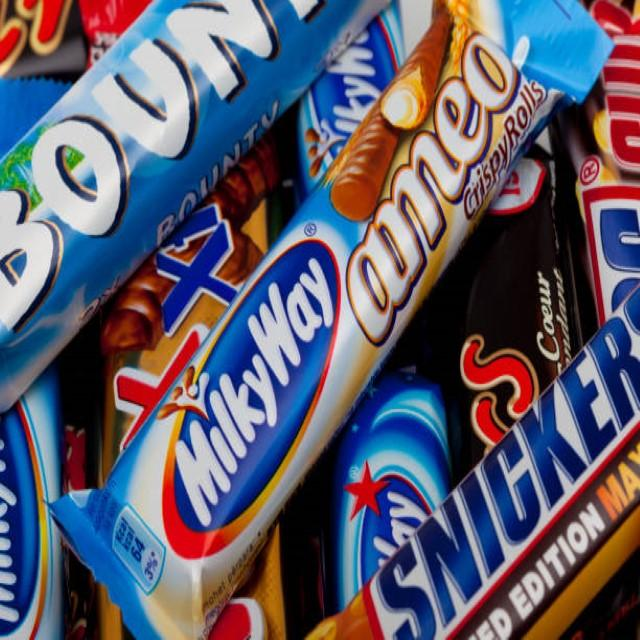snickers_chocolate: (395, 308, 638, 640)
